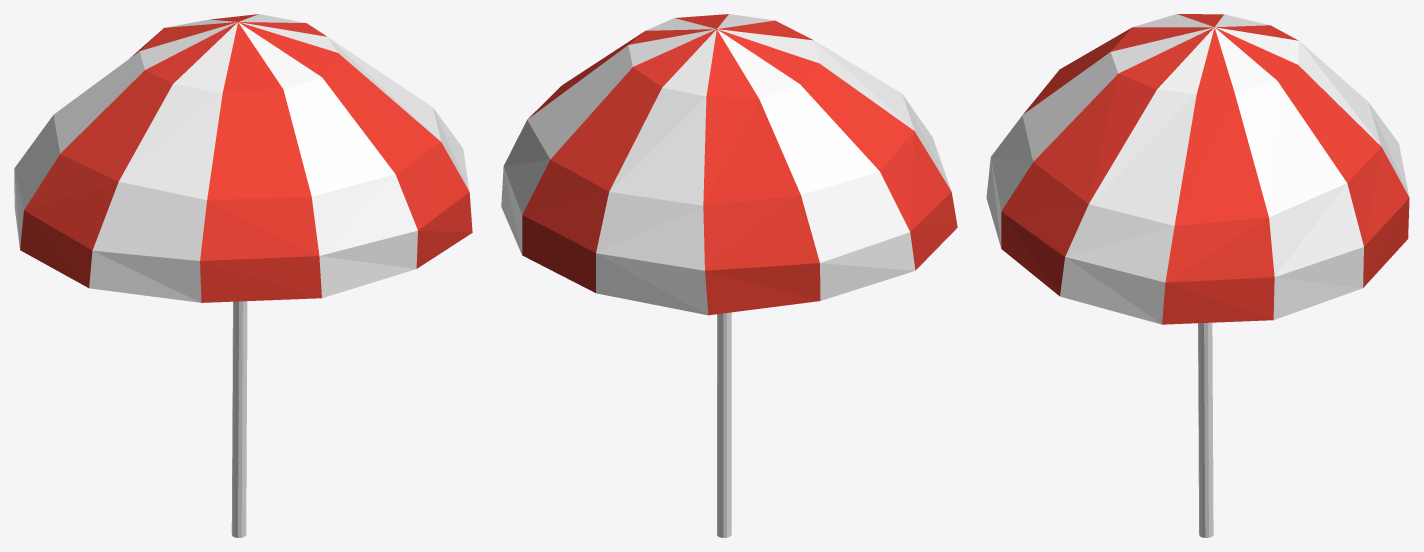
Rendered from umbrella-0-far.glb.
3 renders of one model, left to right at view 1: azimuth 30°, elevation 25°; view 2: azimuth 150°, elevation 25°; view 3: azimuth 270°, elevation 25°, orthographic.
Parts seen in each view (by area): view 1: group1776344293, group822346014; view 2: group1776344293, group822346014; view 3: group1776344293, group822346014.
Part boxes in pixels (box(x1,y1,x2,y2)): group1776344293: box(14, 14, 469, 537); group822346014: box(20, 14, 472, 302); group1776344293: box(501, 14, 951, 537); group822346014: box(522, 14, 957, 315); group1776344293: box(986, 14, 1409, 537); group822346014: box(1001, 14, 1409, 324).
Size of the model in its own units: 2.25 by 2.67 by 2.01.
